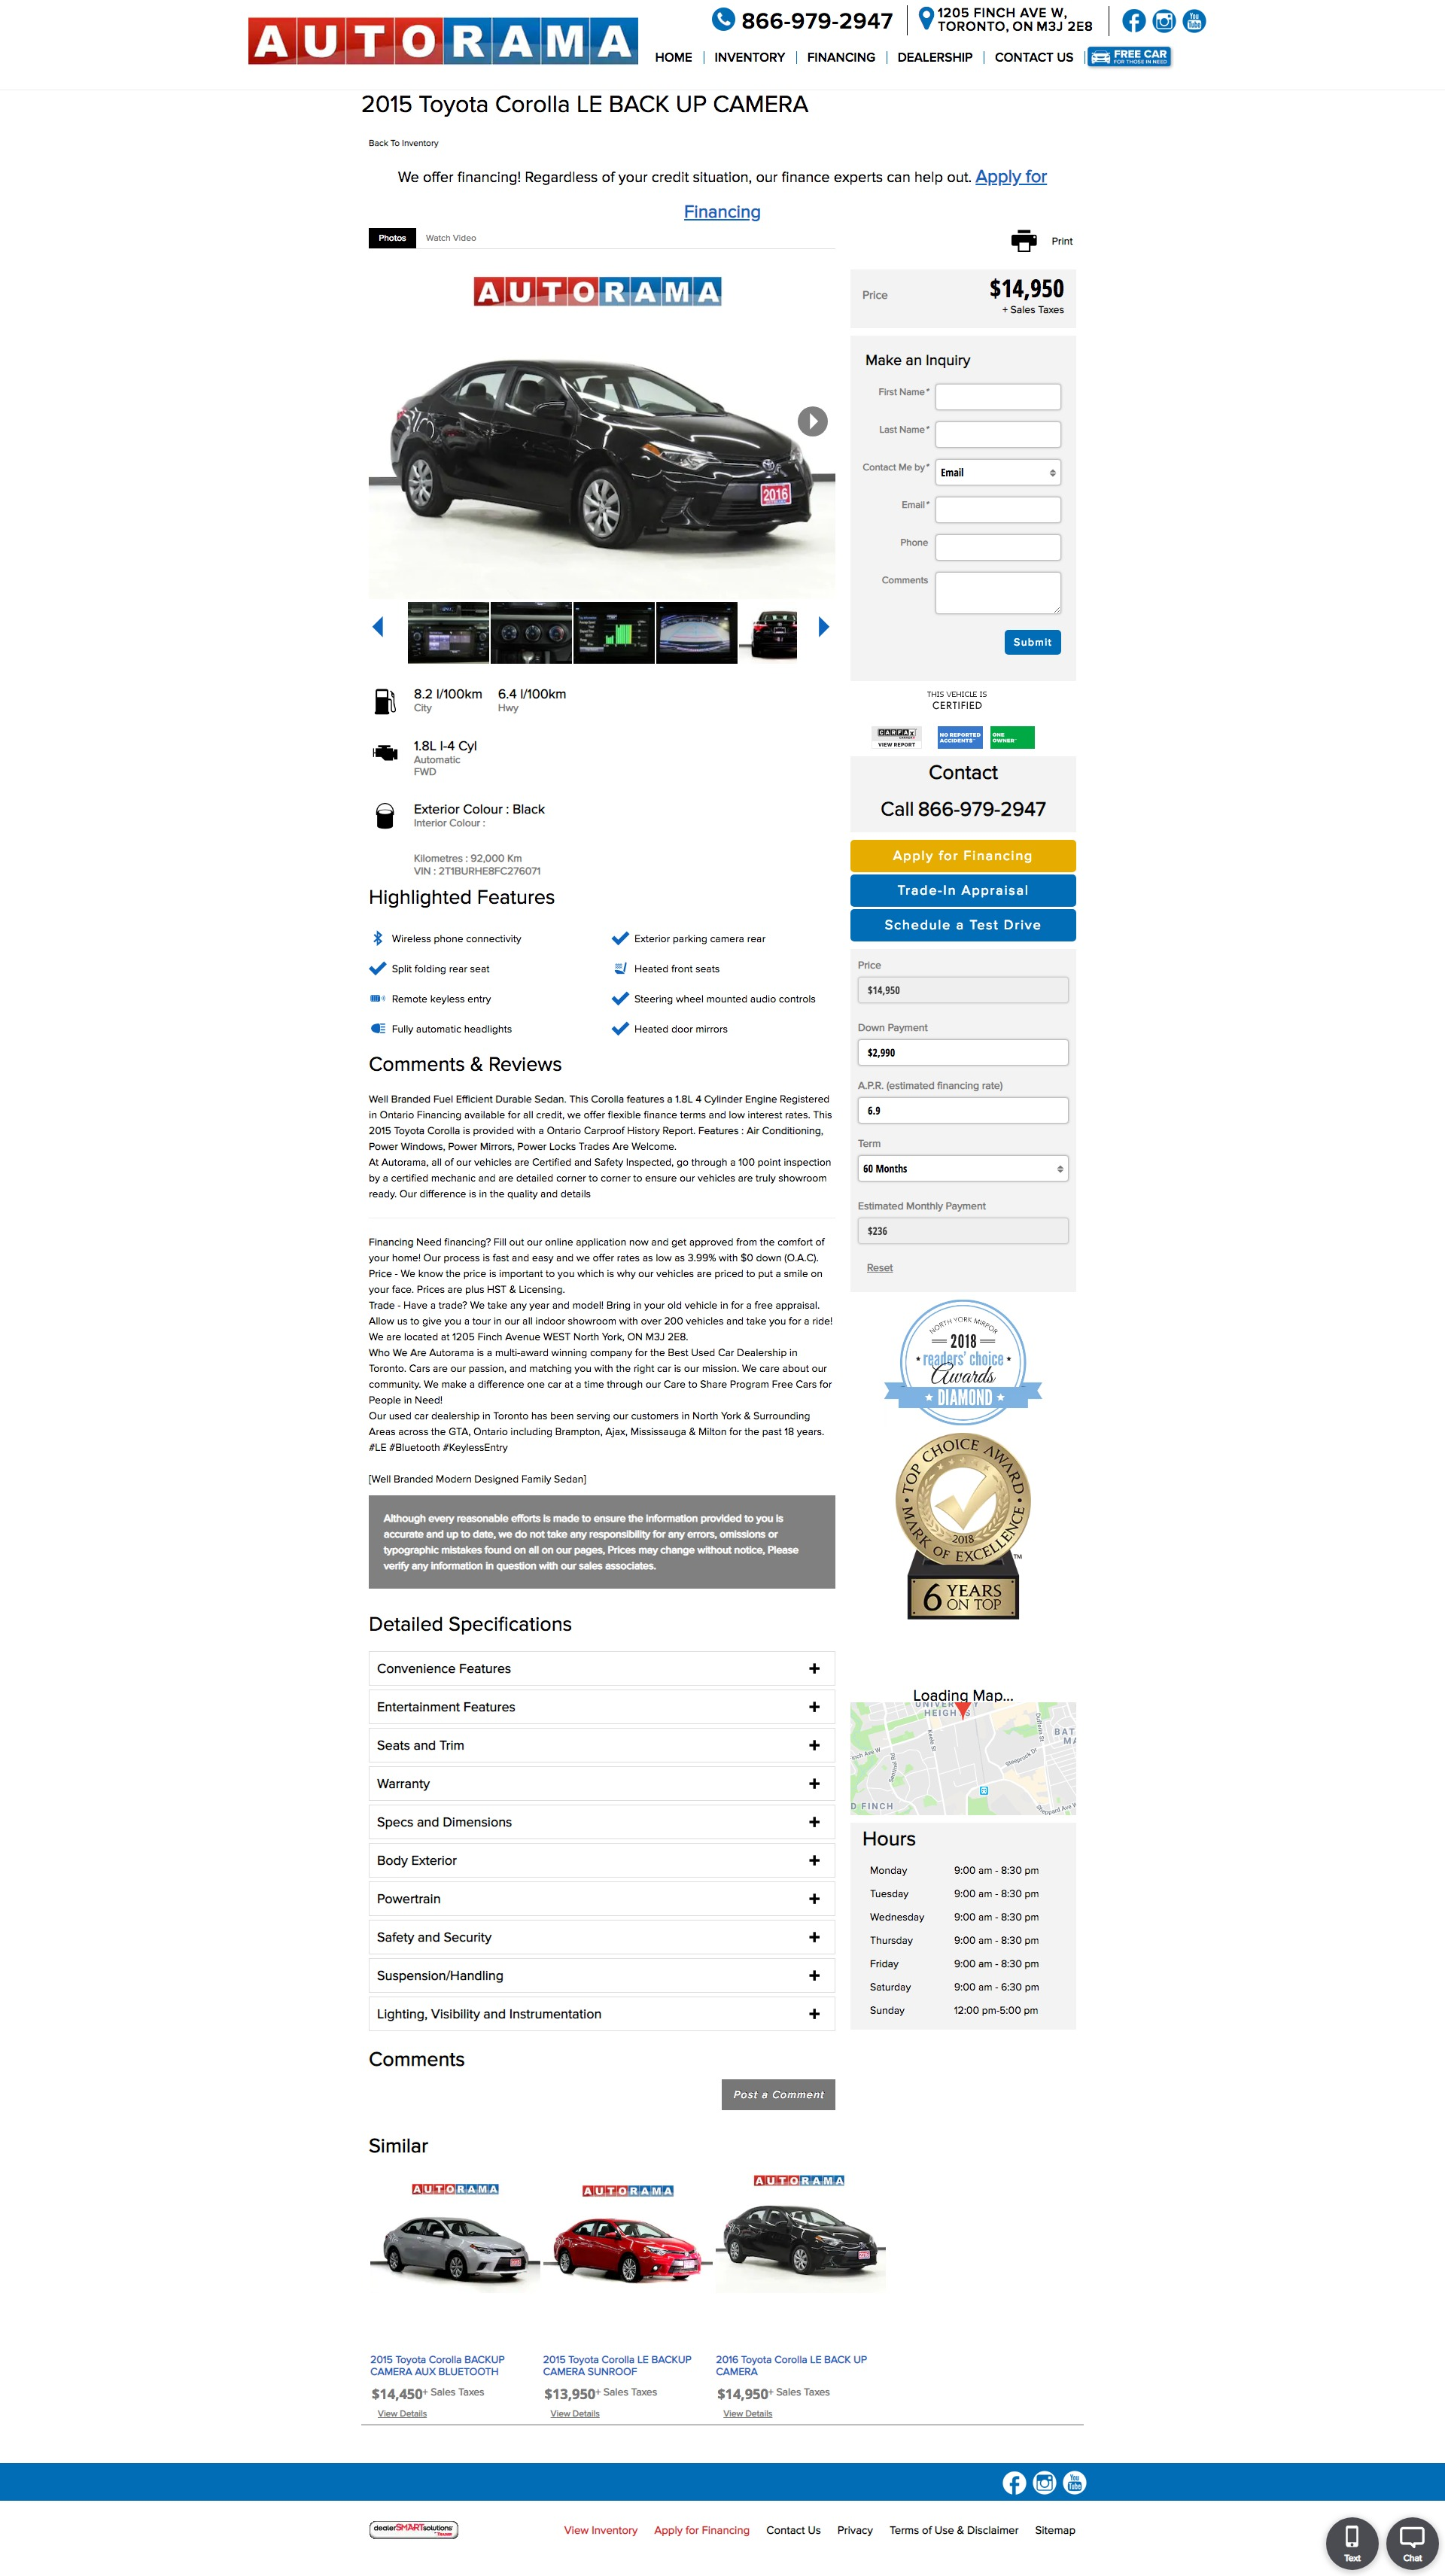car: (817, 616, 830, 639)
